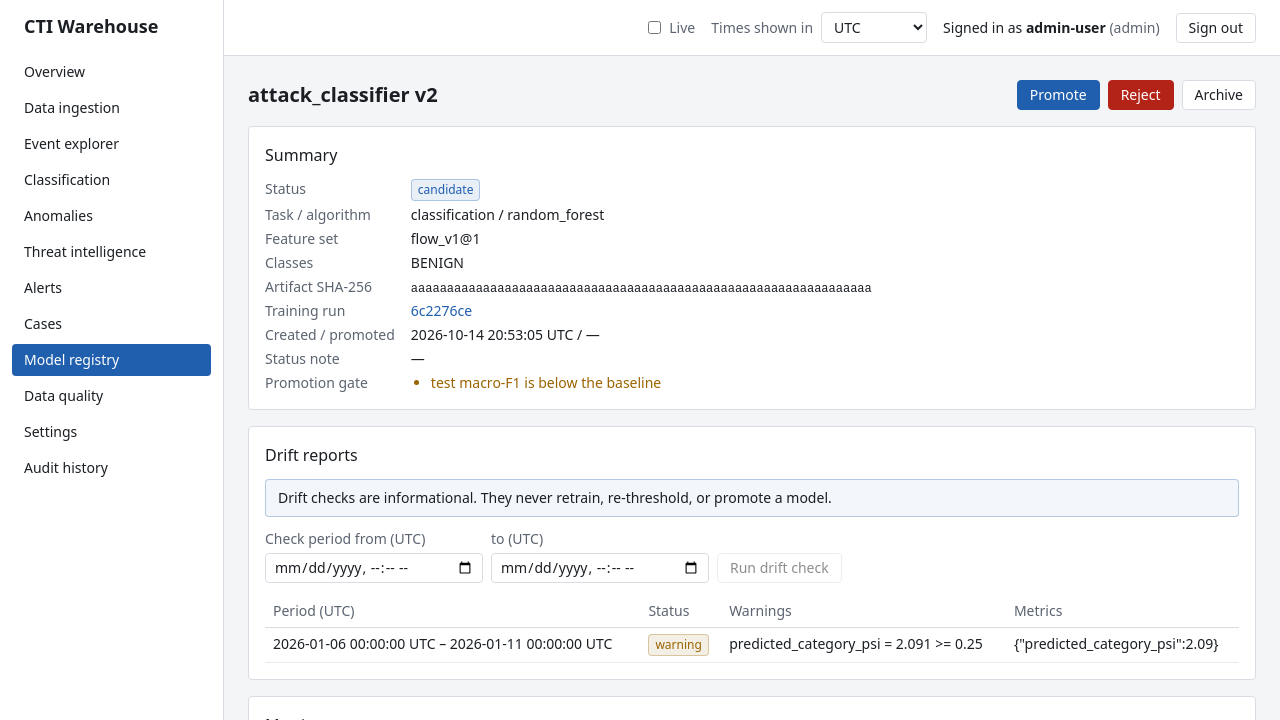
Test: models and classification › shows the promotion gate problems returned by the API
Check: the list item "test macro-F1 is below the baseline" is shown, box [431,373,661,392]
Click the button "Promote".
click(1058, 95)  # box [1017,80,1100,110]
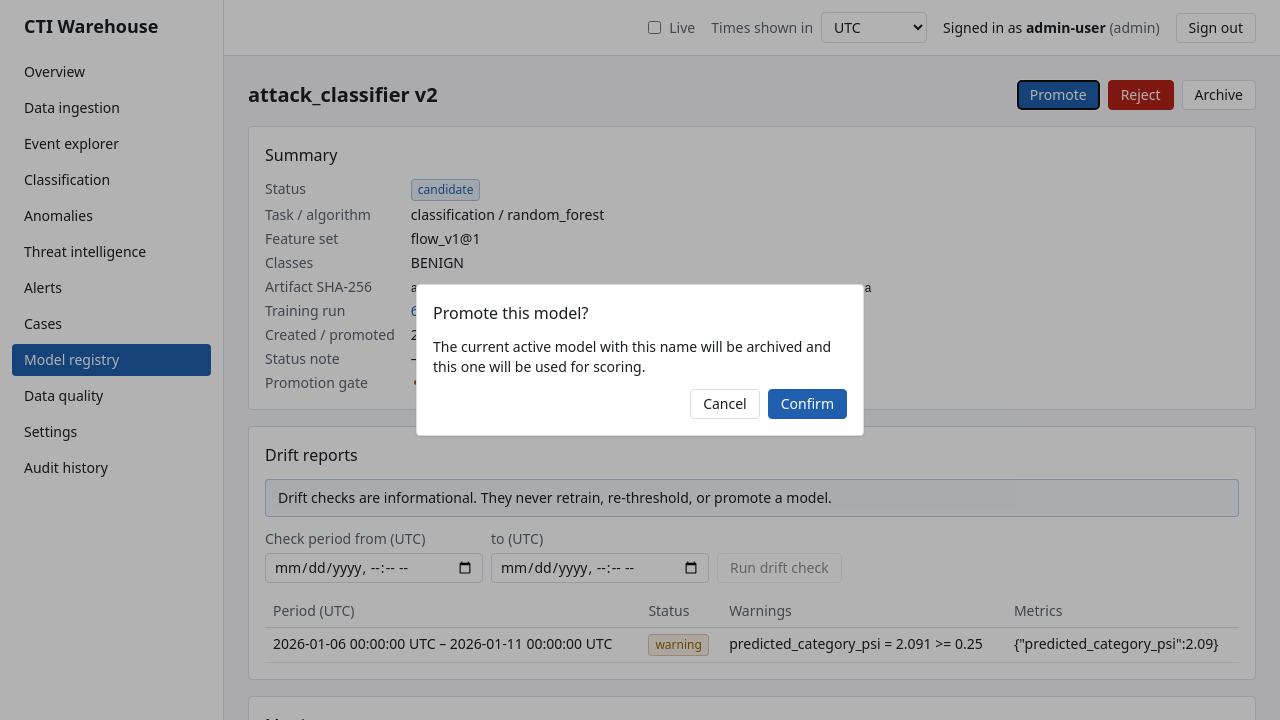
Click the button "Confirm".
click(807, 404)  # box [768,389,847,419]
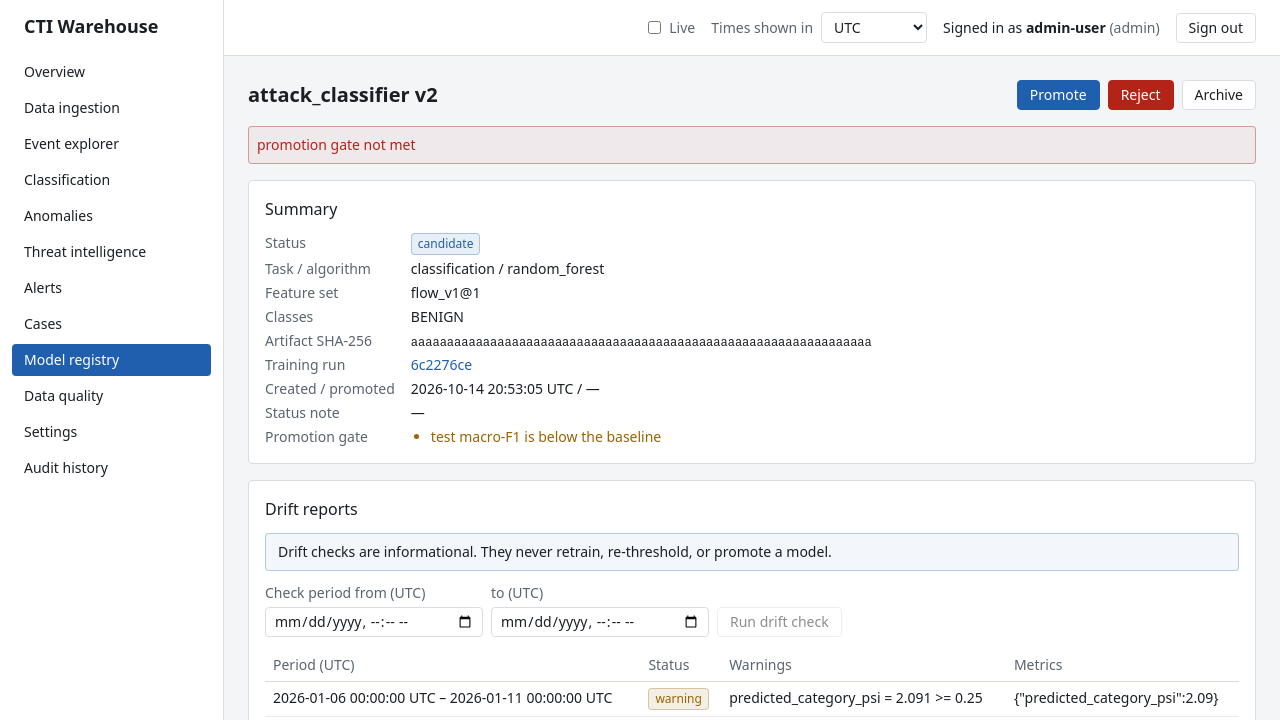
Check: the text "predicted_category_psi = 2.091 >= 0.25" is shown, box [721,682,1006,716]
Check: the text "promotion gate not met" is shown, box [257,135,416,154]
